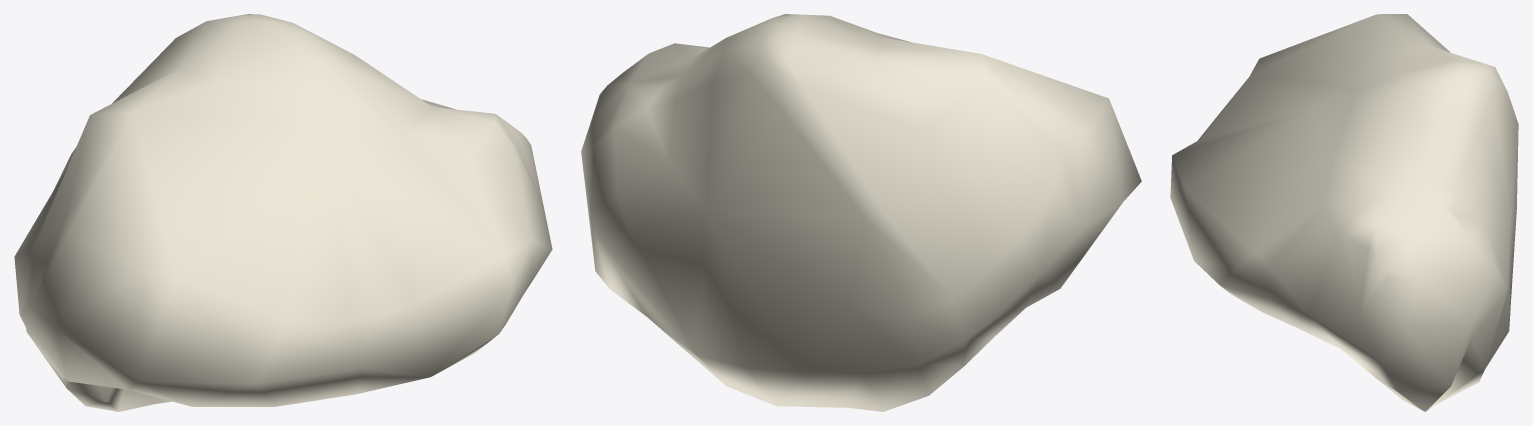
3 renders of one model, left to right at view 1: azimuth 30°, elevation 25°; view 2: azimuth 150°, elevation 25°; view 3: azimuth 270°, elevation 25°, orthographic. The views are drawn at different scales.
Visible parts, largest first — view 1: ZA_fccfaee394131d90; view 2: ZA_fccfaee394131d90; view 3: ZA_fccfaee394131d90.
Boxes of the visible parts, x1,y1,x2,y2 form: ZA_fccfaee394131d90: [14, 14, 552, 411]; ZA_fccfaee394131d90: [581, 14, 1141, 411]; ZA_fccfaee394131d90: [1170, 14, 1518, 411].
Size of the model in its own units: 0.0193 by 0.0135 by 0.0139.
